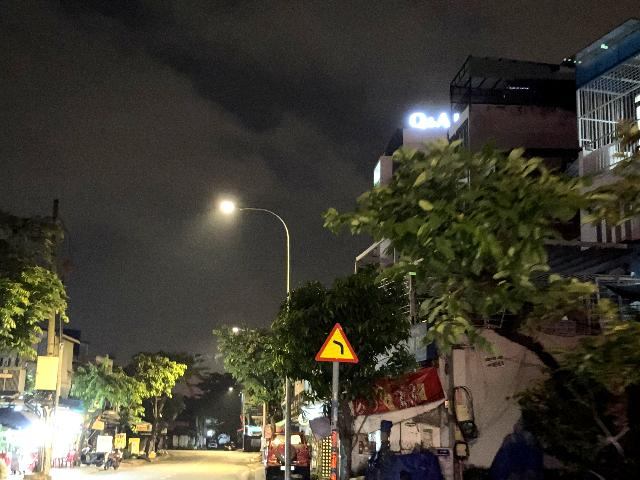cho-ngoat-nguy-hiem-ben-trai: (315, 322, 359, 363)
